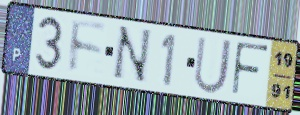1: (160, 32, 178, 88)
3: (32, 14, 66, 75)
F: (229, 39, 271, 99), (68, 17, 108, 76)
N: (109, 24, 154, 86)
U: (192, 34, 235, 96)
